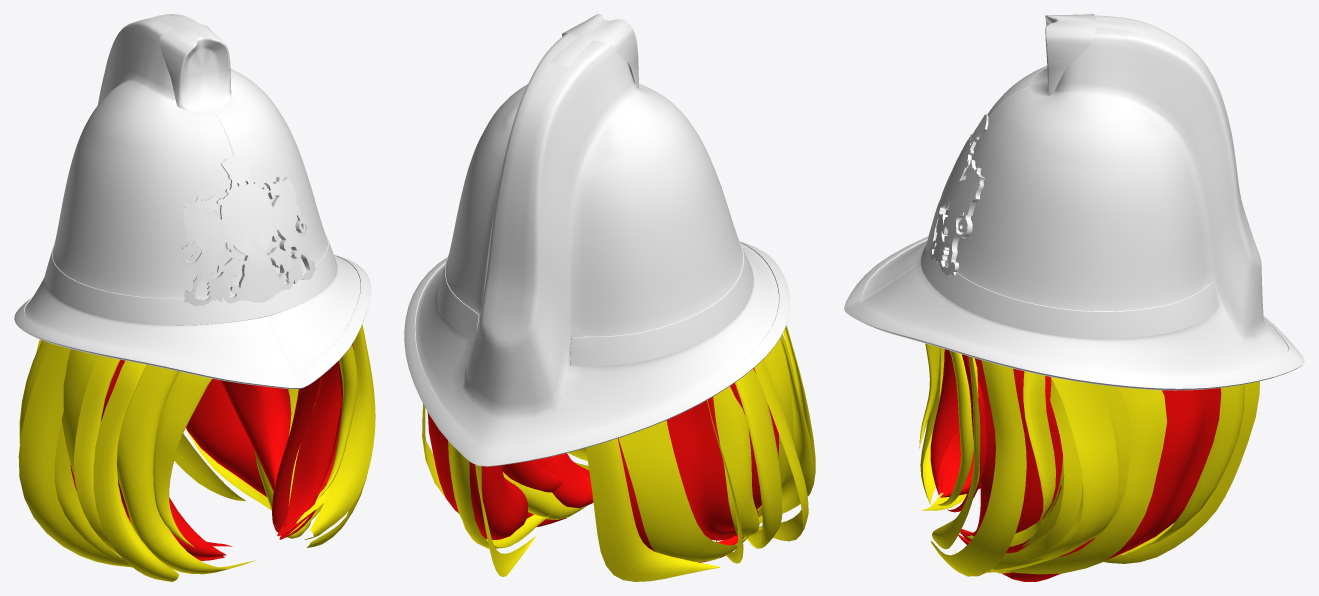
The model's file is police.fbx.
The picture shows the model from 3 angles, left to right: view 1: azimuth 30°, elevation 25°; view 2: azimuth 150°, elevation 25°; view 3: azimuth 270°, elevation 25°; orthographic projection. The views are drawn at different scales.
Visible parts, largest first — view 1: helmet, Hair, plates; view 2: helmet, Hair, plates; view 3: helmet, Hair, plates.
Part boxes in pixels (bbox=[...]): helmet: bbox=[14, 14, 371, 389]; Hair: bbox=[18, 324, 375, 581]; plates: bbox=[149, 14, 315, 306]; helmet: bbox=[404, 33, 790, 466]; Hair: bbox=[422, 325, 815, 581]; plates: bbox=[549, 14, 721, 187]; helmet: bbox=[844, 15, 1304, 390]; Hair: bbox=[919, 343, 1259, 581]; plates: bbox=[926, 14, 1148, 275].
Size of the model in its own units: 272 by 385 by 307.
